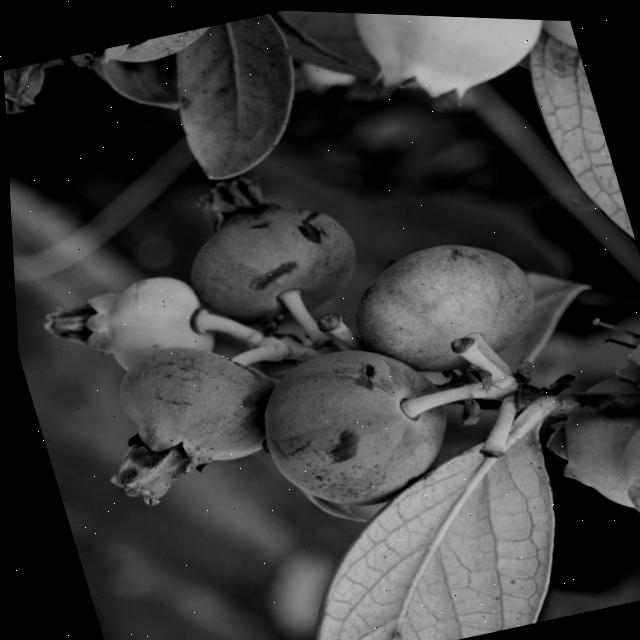RipeBlueBerry: (232, 322, 469, 530), (165, 178, 371, 337), (97, 325, 288, 487)
Semi-RipeBlueBerry: (330, 217, 548, 392)
UnripeBlueBerry: (68, 263, 218, 389)
